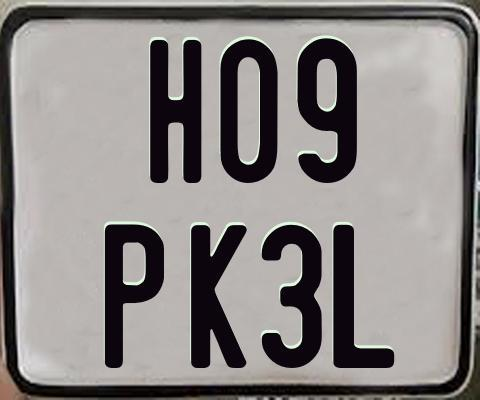0: (217, 37, 278, 181)
3: (261, 224, 321, 367)
9: (296, 36, 360, 186)
H: (149, 40, 204, 186)
K: (189, 222, 245, 367)
L: (331, 224, 393, 367)
P: (102, 221, 163, 367)
